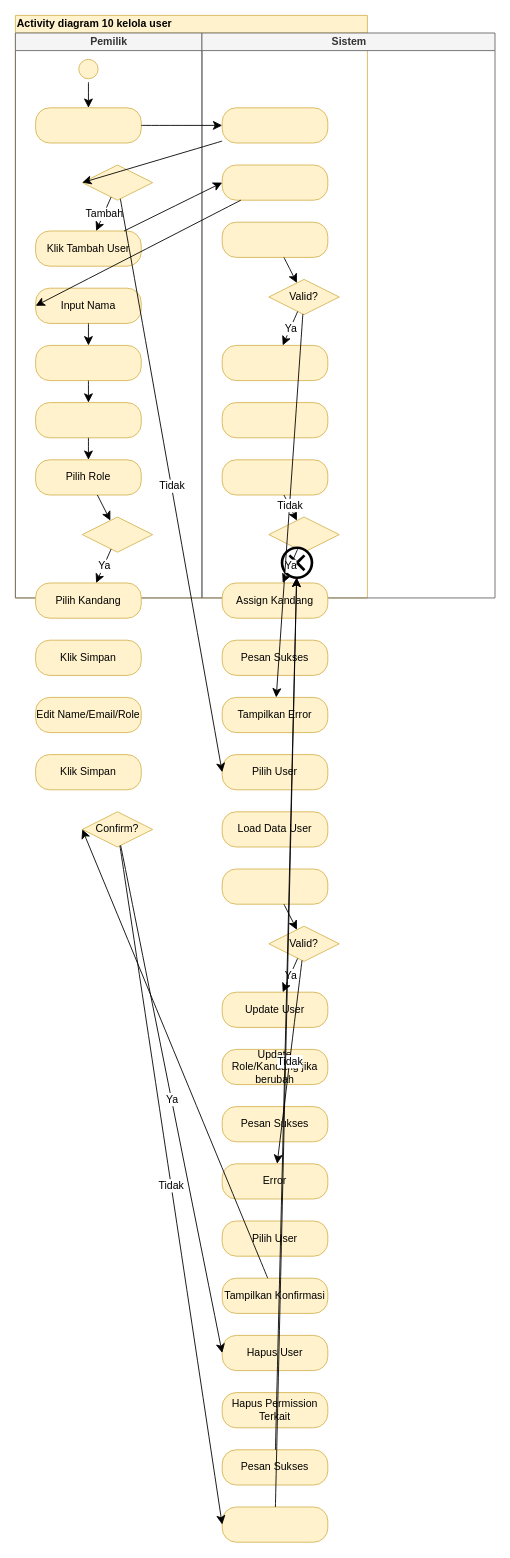
The diagram is 510 pixels wide and 1558 high, and some of its shapes have lost their labels. Each missing label, with the centre of its shape:
Aksi?: [117,182]
Assign Role: [274,477]
Batal: [274,1524]
Buka Halaman User: [88,125]
Hash Password: [274,363]
Input Email: [88,363]
Input Password: [88,420]
Pekerja?: [303,534]
Role Pekerja?: [117,534]
Simpan User ke DB: [274,420]
Tampilkan Daftar User: [274,125]
Tampilkan Form Input: [274,182]
Validasi Data: [274,886]
Validasi Email Unique: [274,239]
